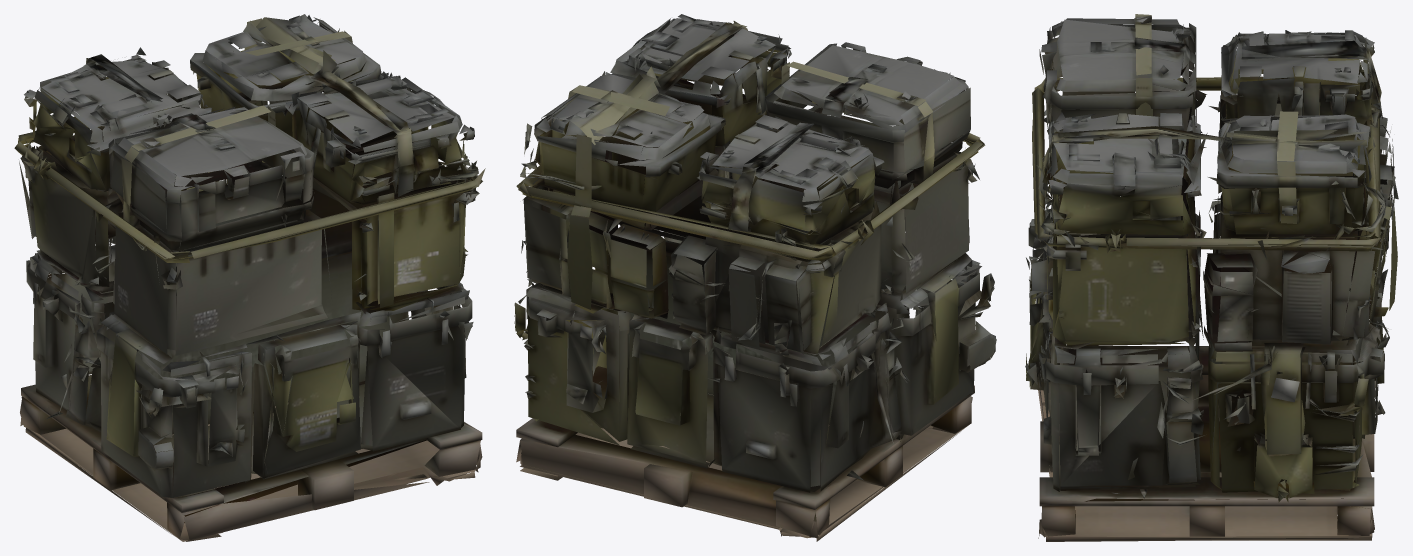
The model's file is ch4_meridian_crate_stack_LOD2.glb.
The picture shows the model from 3 angles, left to right: view 1: azimuth 30°, elevation 25°; view 2: azimuth 150°, elevation 25°; view 3: azimuth 270°, elevation 25°; orthographic projection. The views are drawn at different scales.
Parts seen in each view (by area): view 1: tripo_node_f5c4e4e8-3376-4078-b9fc-911eb14a894c; view 2: tripo_node_f5c4e4e8-3376-4078-b9fc-911eb14a894c; view 3: tripo_node_f5c4e4e8-3376-4078-b9fc-911eb14a894c.
Part boxes in pixels (x1,y1,x2,y2): tripo_node_f5c4e4e8-3376-4078-b9fc-911eb14a894c: (14, 14, 485, 541); tripo_node_f5c4e4e8-3376-4078-b9fc-911eb14a894c: (514, 14, 996, 541); tripo_node_f5c4e4e8-3376-4078-b9fc-911eb14a894c: (1025, 14, 1398, 541).
Bounding box in the file's own units: 0.994 × 1.01 × 0.8694.
1 material, 1 textured.
